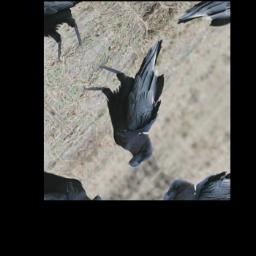Crow: (66, 19, 211, 174)
